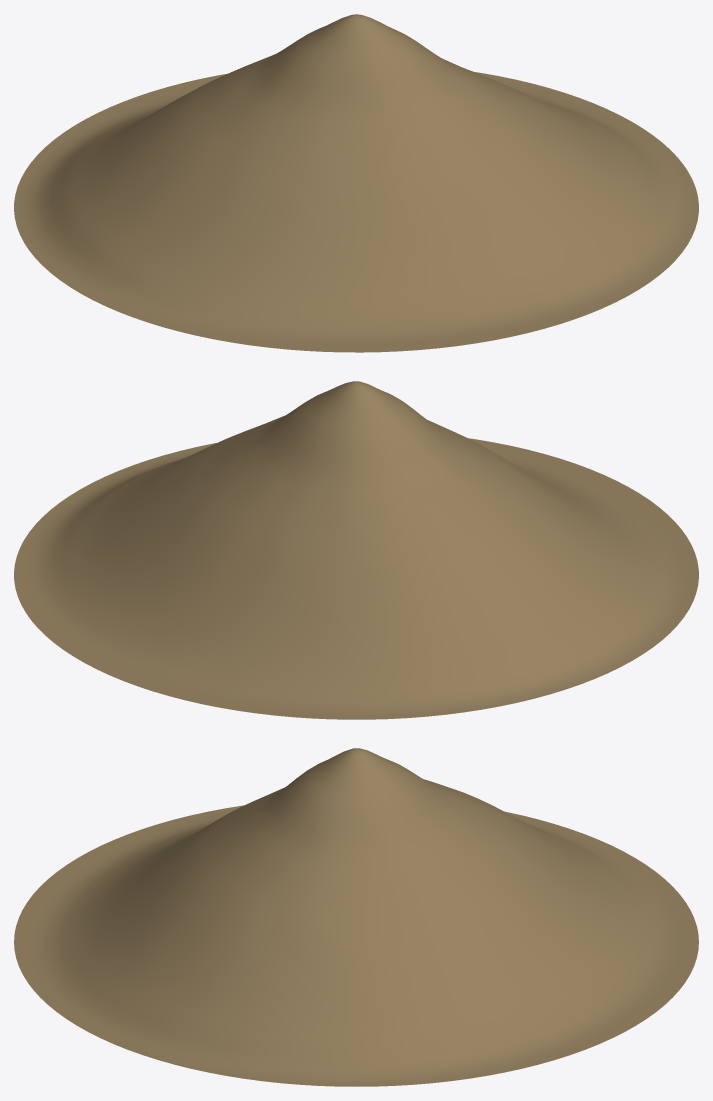
The model's file is hill-v4.2.glb.
3 renders of one model, top to bottom at view 1: azimuth 30°, elevation 25°; view 2: azimuth 150°, elevation 25°; view 3: azimuth 270°, elevation 25°, orthographic.
Parts seen in each view (by area): view 1: hill_v4_2; view 2: hill_v4_2; view 3: hill_v4_2.
Part boxes in pixels (box(x1,y1,x2,y2)): hill_v4_2: box(14, 14, 698, 352); hill_v4_2: box(14, 381, 698, 719); hill_v4_2: box(14, 748, 698, 1086).
Bounding box in the file's own units: 2 × 0.62 × 2.
